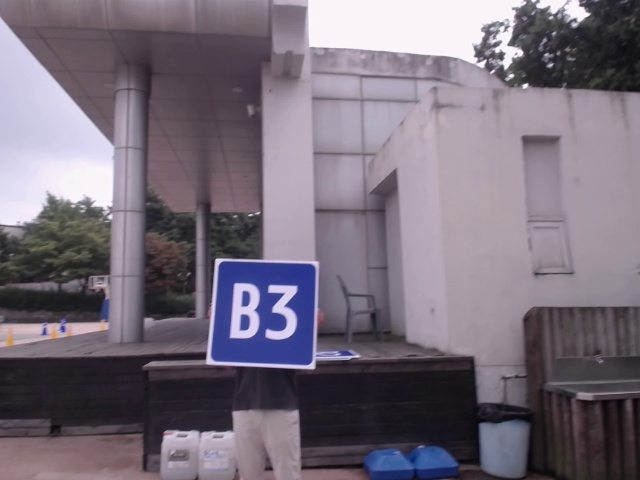delivery_b3: (207, 259, 316, 366)
